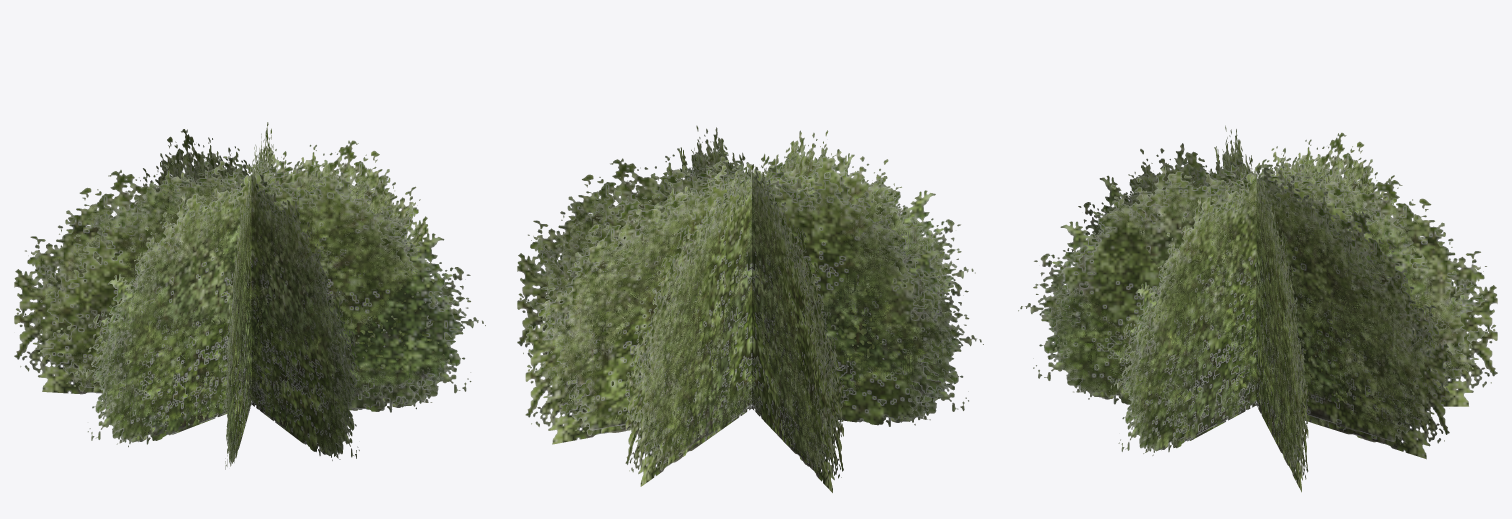
File: Bushes.fbx
The picture shows the model from 3 angles, left to right: view 1: azimuth 30°, elevation 25°; view 2: azimuth 150°, elevation 25°; view 3: azimuth 270°, elevation 25°; orthographic projection. The views are drawn at different scales.
Parts seen in each view (by area): view 1: Bush01, Bush03, Bush02, Bush04; view 2: Bush01, Bush03, Bush02, Bush04; view 3: Bush01, Bush03, Bush02, Bush04.
Boxes of the visible parts, x1,y1,x2,y2 form: Bush01: (33, 137, 471, 469); Bush03: (14, 122, 470, 462); Bush02: (16, 144, 485, 464); Bush04: (28, 141, 465, 465); Bush01: (540, 125, 969, 474); Bush03: (517, 127, 968, 492); Bush02: (518, 141, 983, 471); Bush04: (529, 143, 963, 465); Bush01: (1033, 125, 1478, 474); Bush03: (1034, 129, 1497, 492); Bush02: (1018, 142, 1495, 471); Bush04: (1039, 144, 1485, 465).
Size of the model in its own units: 195 by 133 by 200.
